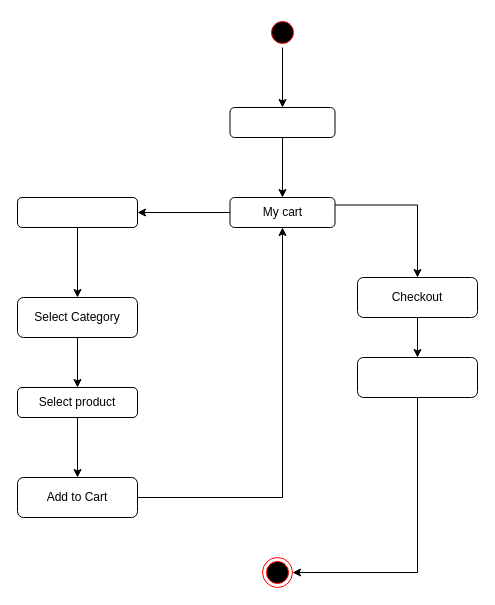
The diagram is 495 pixels wide and 605 high, and some of its shapes have lost their labels. The shapes that lost their labels are listed below. From the top down, each one's box as (x1, y1, x2, y2) in pixels, then its label:
(229, 106, 335, 138): Home
(16, 196, 138, 228): Menu
(356, 356, 478, 398): Order Confirmation
